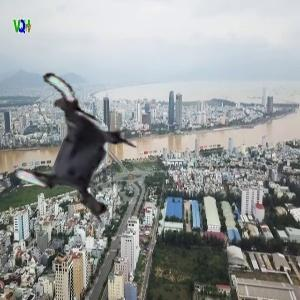drone: (6, 80, 146, 220)
